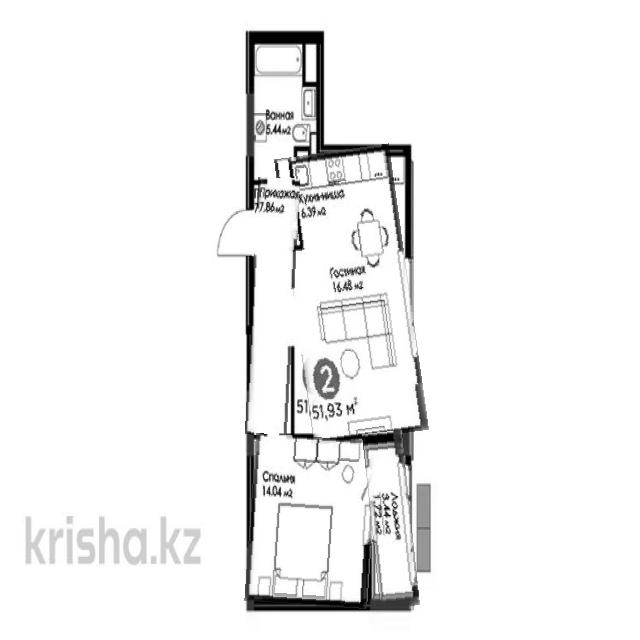balcony: (367, 432, 415, 608)
bathroom: (250, 37, 316, 148)
living_room: (247, 435, 376, 607), (249, 178, 297, 436)
studio: (284, 147, 420, 442)
